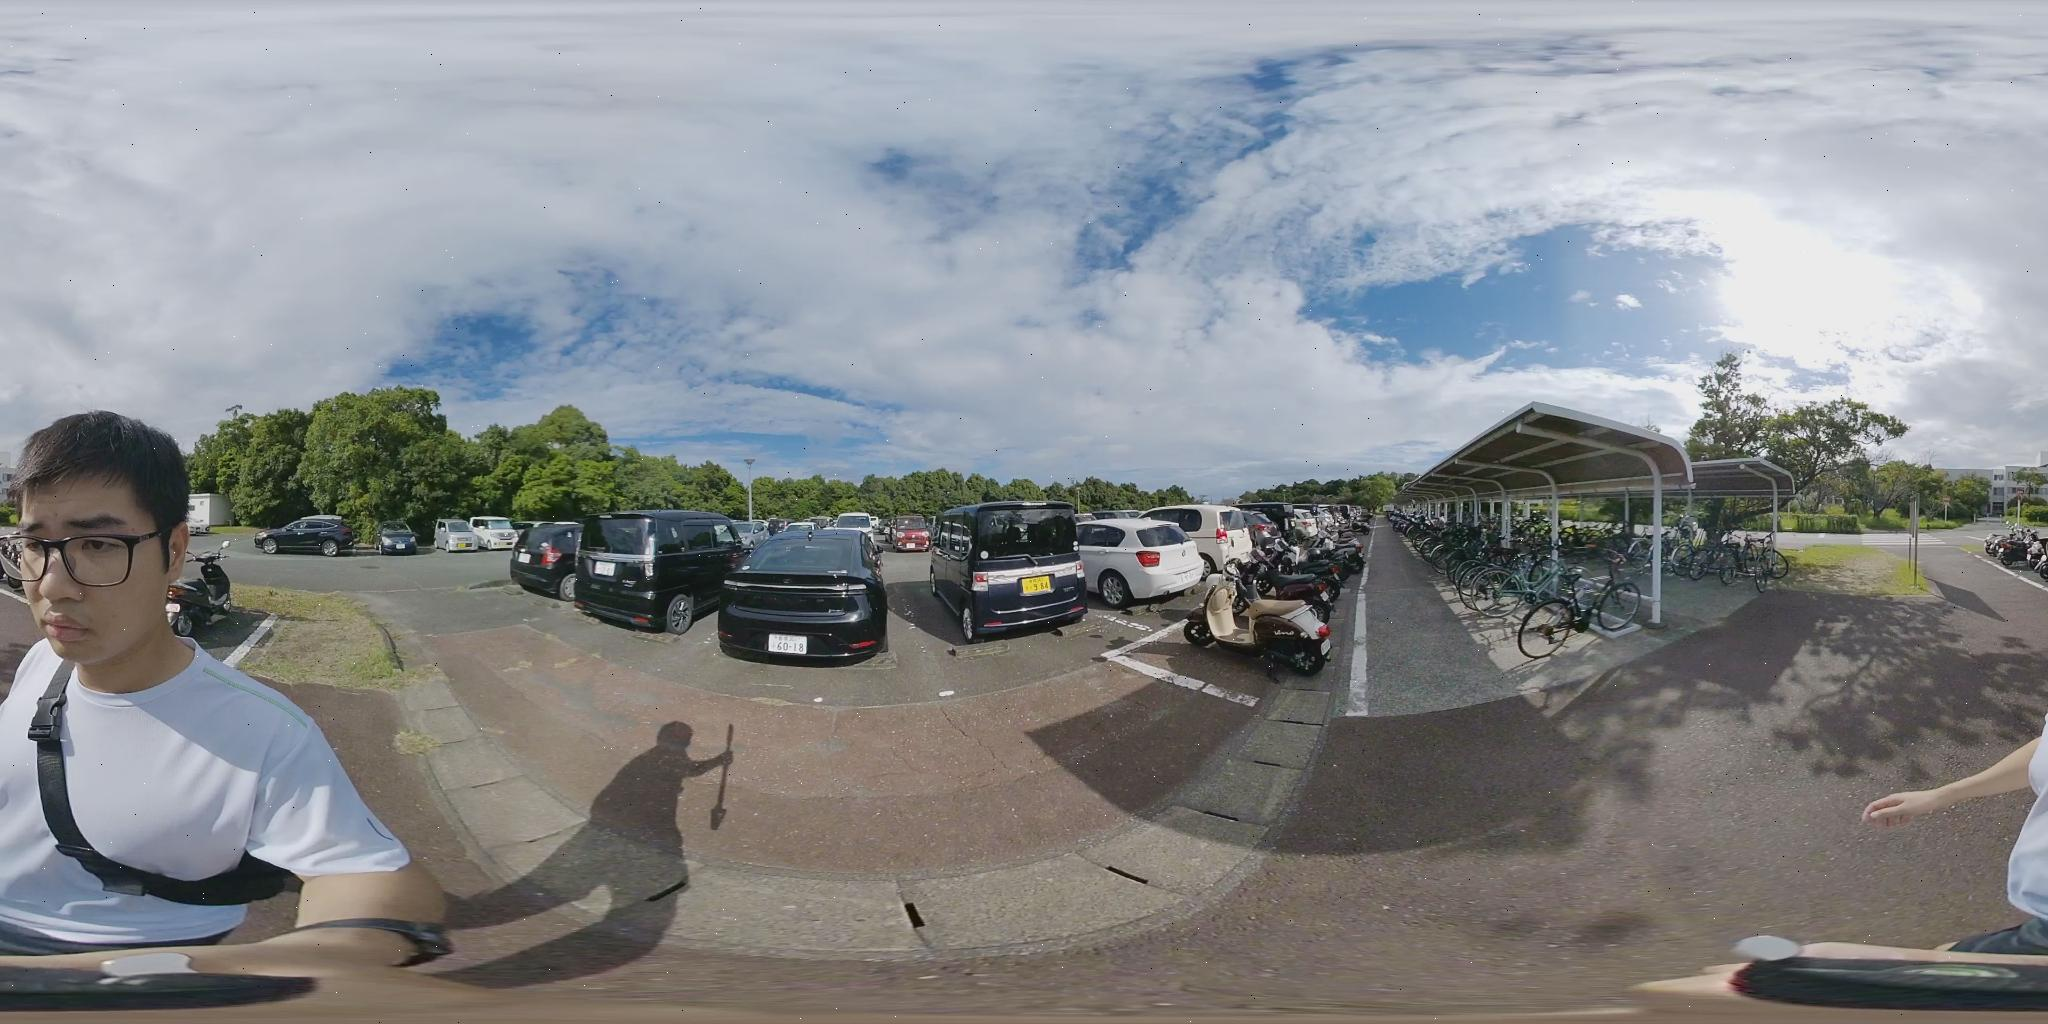car: (724, 522, 889, 657), (579, 509, 742, 636), (933, 513, 1085, 632), (1080, 519, 1212, 605), (505, 521, 609, 600), (1145, 503, 1279, 563), (251, 516, 350, 554), (434, 520, 515, 552), (820, 516, 887, 538), (384, 529, 421, 555)
